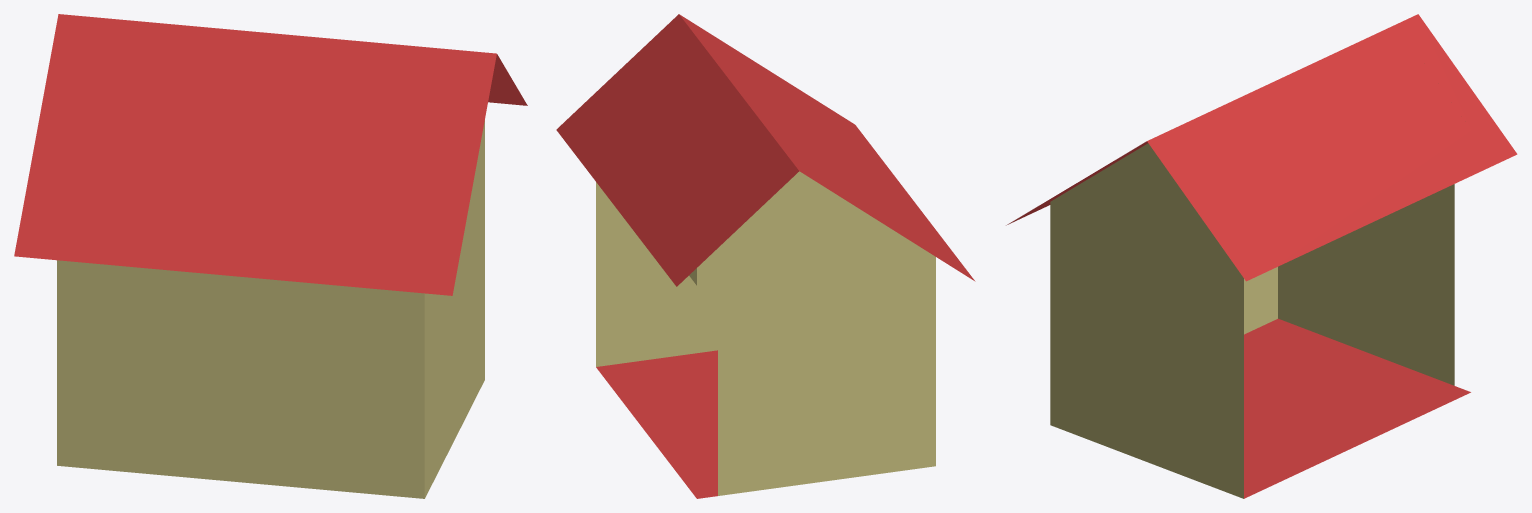
3 views of the same model, side by side, from view 1: azimuth 30°, elevation 25°; view 2: azimuth 150°, elevation 25°; view 3: azimuth 270°, elevation 25° (orthographic). The views are drawn at different scales.
Bounding box in the file's own units: 15.9 × 15.72 × 11.47.
